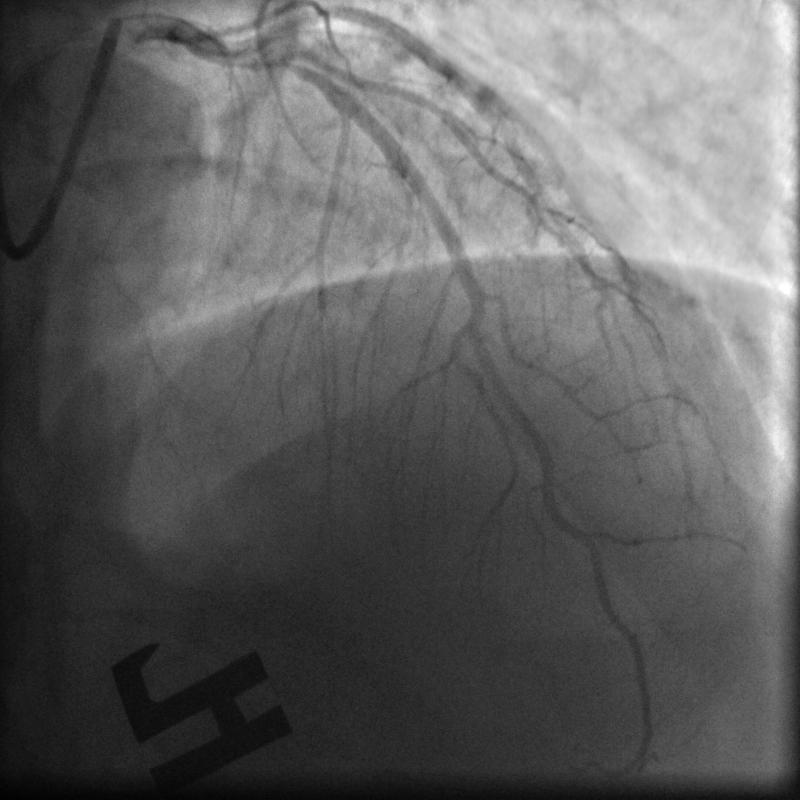Stenosis: (231, 40, 302, 78)
